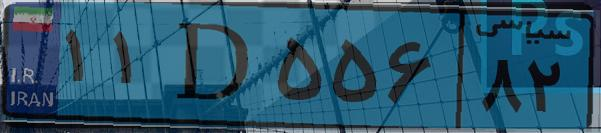1: (57, 26, 110, 100), (110, 28, 158, 98)
2: (525, 38, 570, 115)
5: (270, 28, 330, 110), (330, 28, 385, 110)
6: (385, 28, 445, 110)
8: (475, 38, 525, 113)
D: (158, 12, 270, 120)
